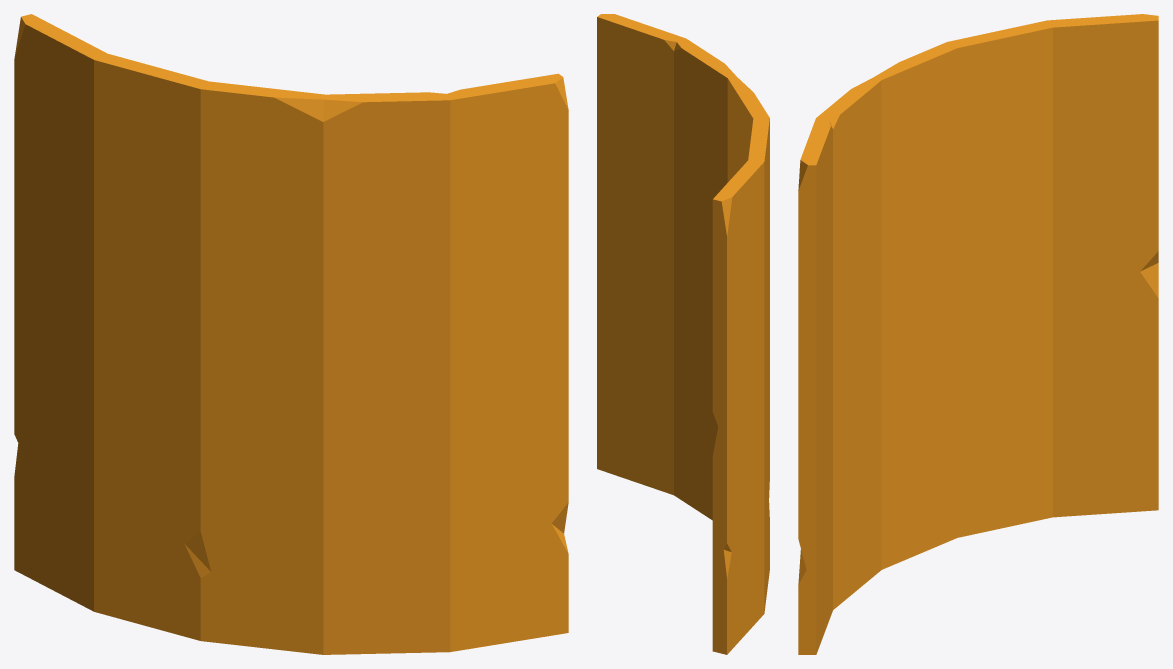
The model's file is SM_Buildings_WallCurved_2x2_01P.fbx.
3 views of the same model, side by side, from view 1: azimuth 30°, elevation 25°; view 2: azimuth 150°, elevation 25°; view 3: azimuth 270°, elevation 25° (orthographic). The views are drawn at different scales.
Visible parts, largest first — view 1: SM_Buildings_WallCurved_2x2_01P; view 2: SM_Buildings_WallCurved_2x2_01P; view 3: SM_Buildings_WallCurved_2x2_01P.
Part boxes in pixels (bbox=[...]): SM_Buildings_WallCurved_2x2_01P: bbox=[14, 14, 568, 654]; SM_Buildings_WallCurved_2x2_01P: bbox=[597, 14, 769, 654]; SM_Buildings_WallCurved_2x2_01P: bbox=[798, 14, 1158, 654].
Bounding box in the file's own units: 200 × 300 × 200.
